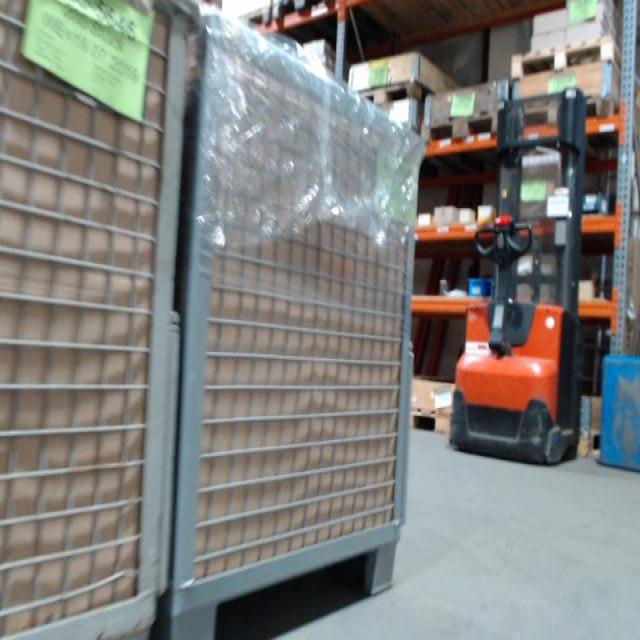pallet: (510, 30, 640, 96), (511, 87, 635, 134), (417, 99, 509, 158), (343, 77, 456, 106), (409, 400, 461, 439), (572, 423, 613, 452), (277, 4, 340, 22), (234, 4, 271, 27)
pallet_truck: (446, 76, 598, 466)
small_load_carrier: (467, 275, 500, 298)
stillage: (179, 10, 425, 623), (4, 10, 168, 623)
